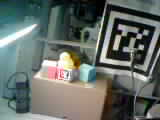duck: (52, 50, 74, 74)
